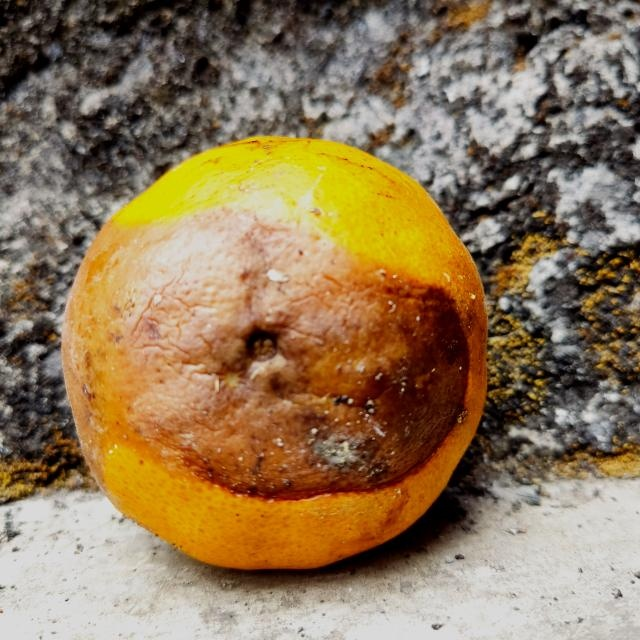agrume: (58, 135, 490, 569)
